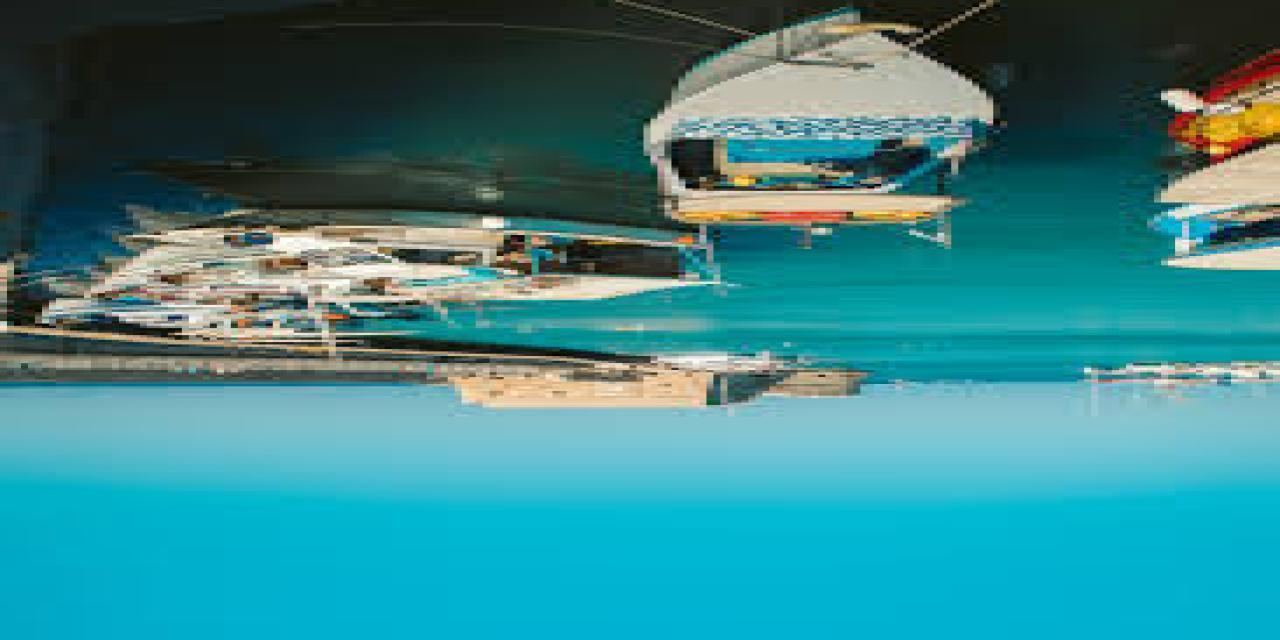Kules: (437, 363, 887, 411)
